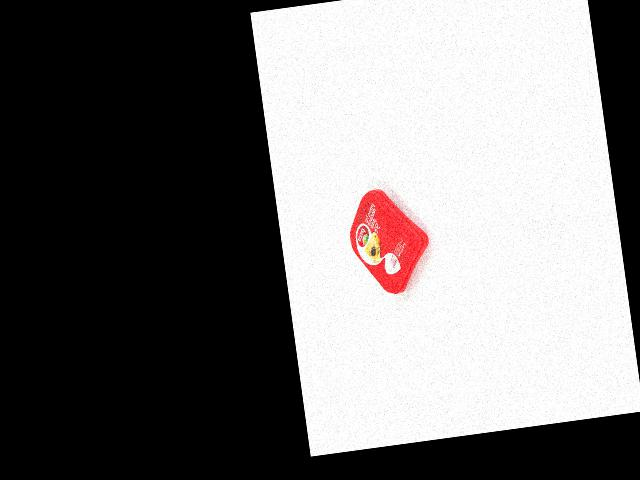cheese: (343, 183, 435, 299)
